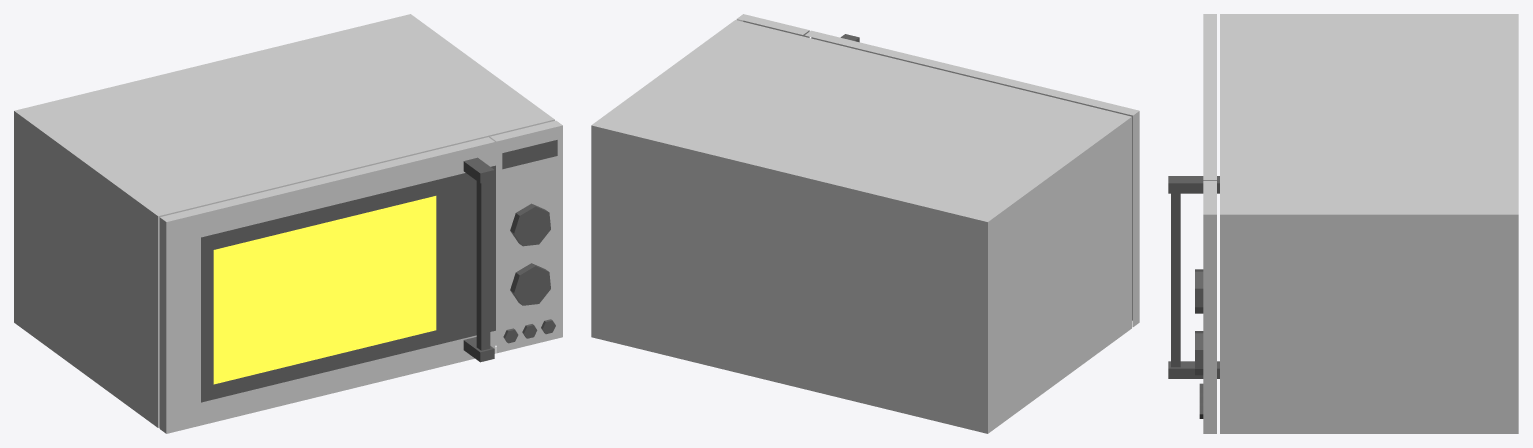
File: microwave_enabled.glb
The picture shows the model from 3 angles, left to right: view 1: azimuth 30°, elevation 25°; view 2: azimuth 150°, elevation 25°; view 3: azimuth 270°, elevation 25°; orthographic projection. The views are drawn at different scales.
Parts seen in each view (by area): view 1: microwave_enabled; view 2: microwave_enabled; view 3: microwave_enabled.
Boxes of the visible parts, bbox=[...] form: microwave_enabled: bbox=[14, 14, 562, 433]; microwave_enabled: bbox=[591, 14, 1139, 433]; microwave_enabled: bbox=[1168, 14, 1518, 433].
Size of the model in its own units: 0.7059 by 0.3602 by 0.521.
